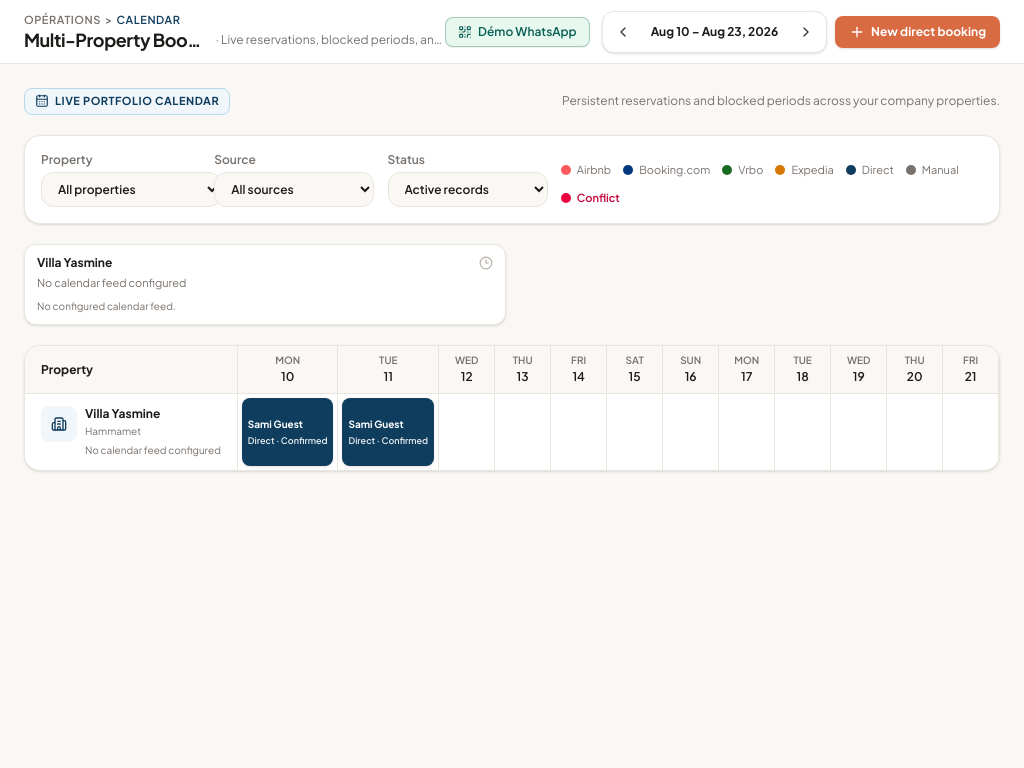
Test: CalendarPage › opens booking details and exposes manual controls without exposing the raw payload
Click the 1st button "Sami Guest Direct · Confirmed" at (288, 432), box [242,398,334,466]
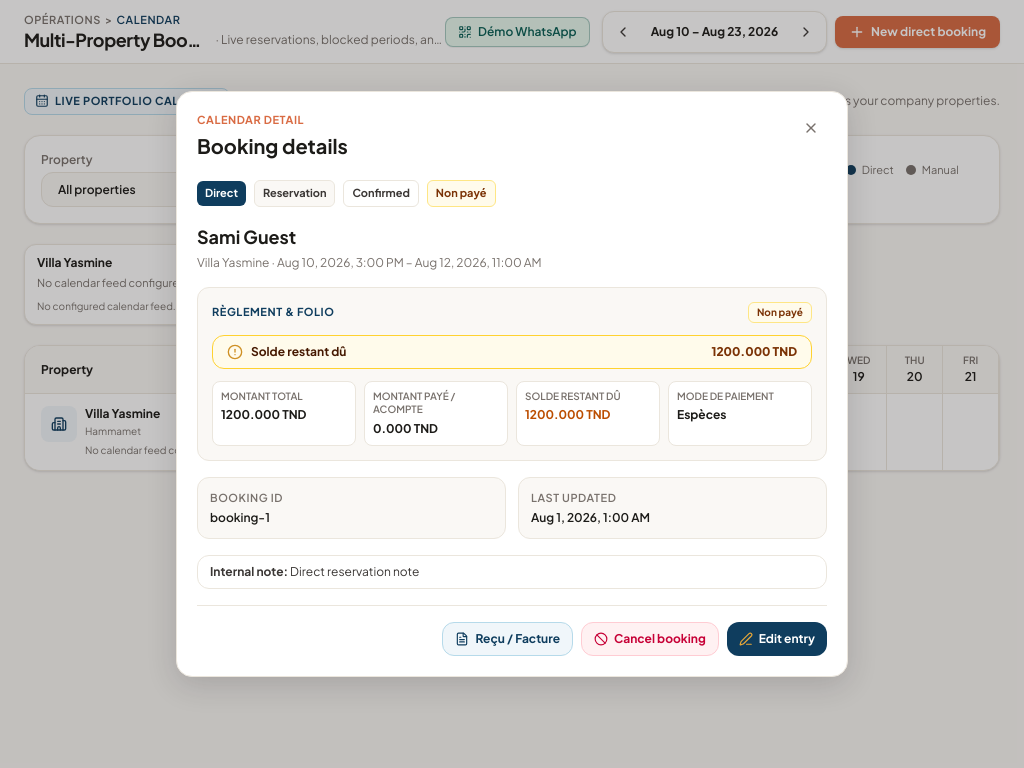
Expected: the heading "Booking details" is shown, [197,132,348,160]
Expected: the text "Direct reservation note" is shown, [290,564,419,579]
Expected: the button "Edit entry" is shown, [727,622,827,656]
